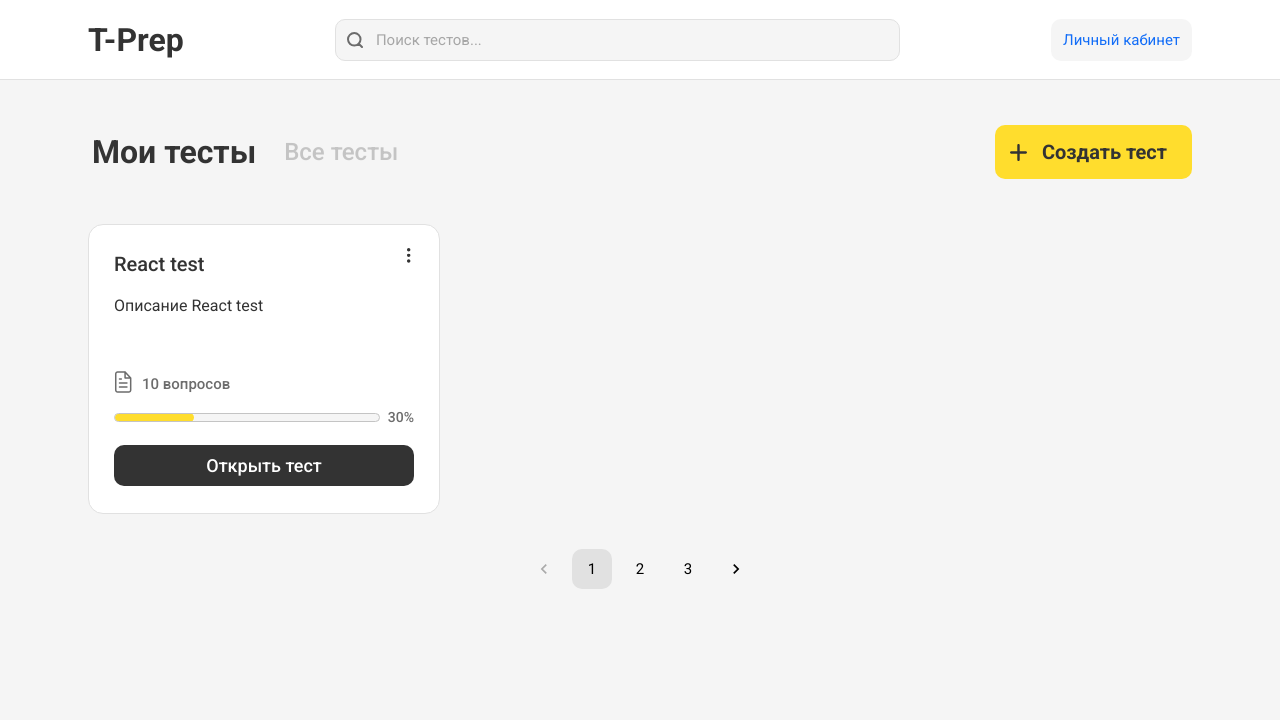
Test case: MainPage › pagination › requests next page when user clicks page number
Expected: the heading "React test" is shown, [114,252,204,276]
Click the button "2" at (640, 569), box [620,549,660,589]
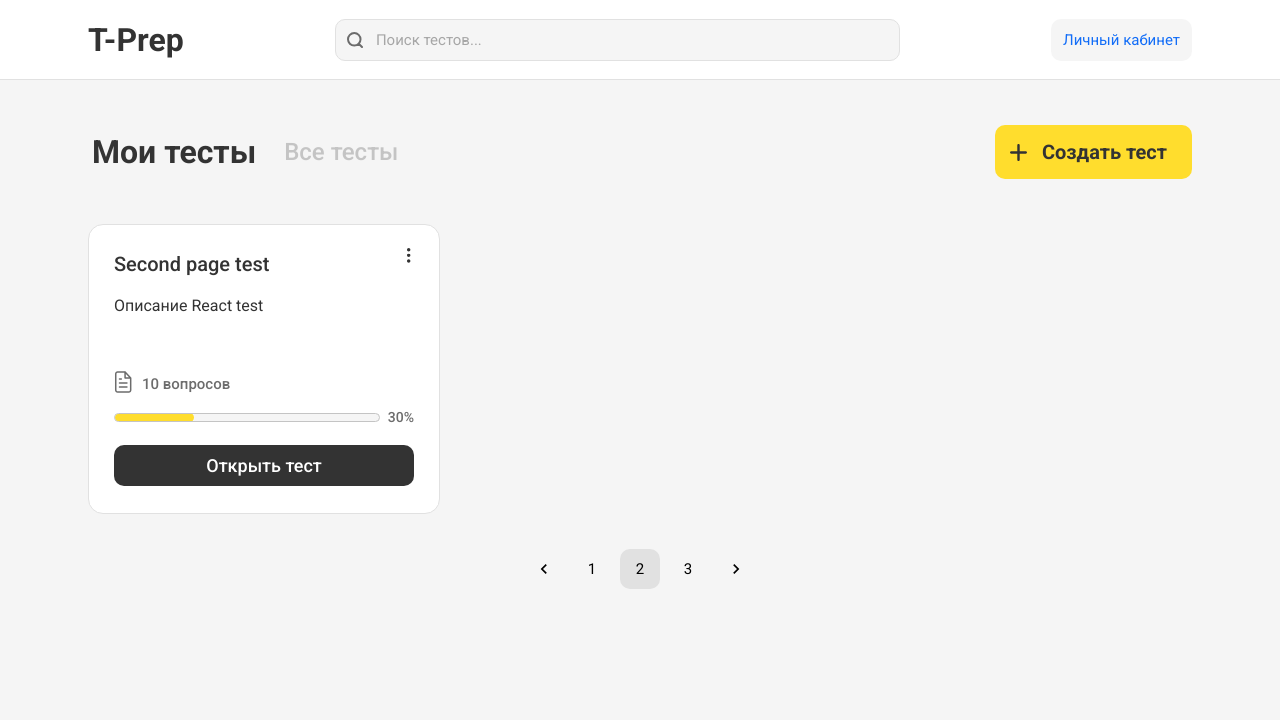
Result: the heading "Second page test" is shown at [114,252,269,276]
